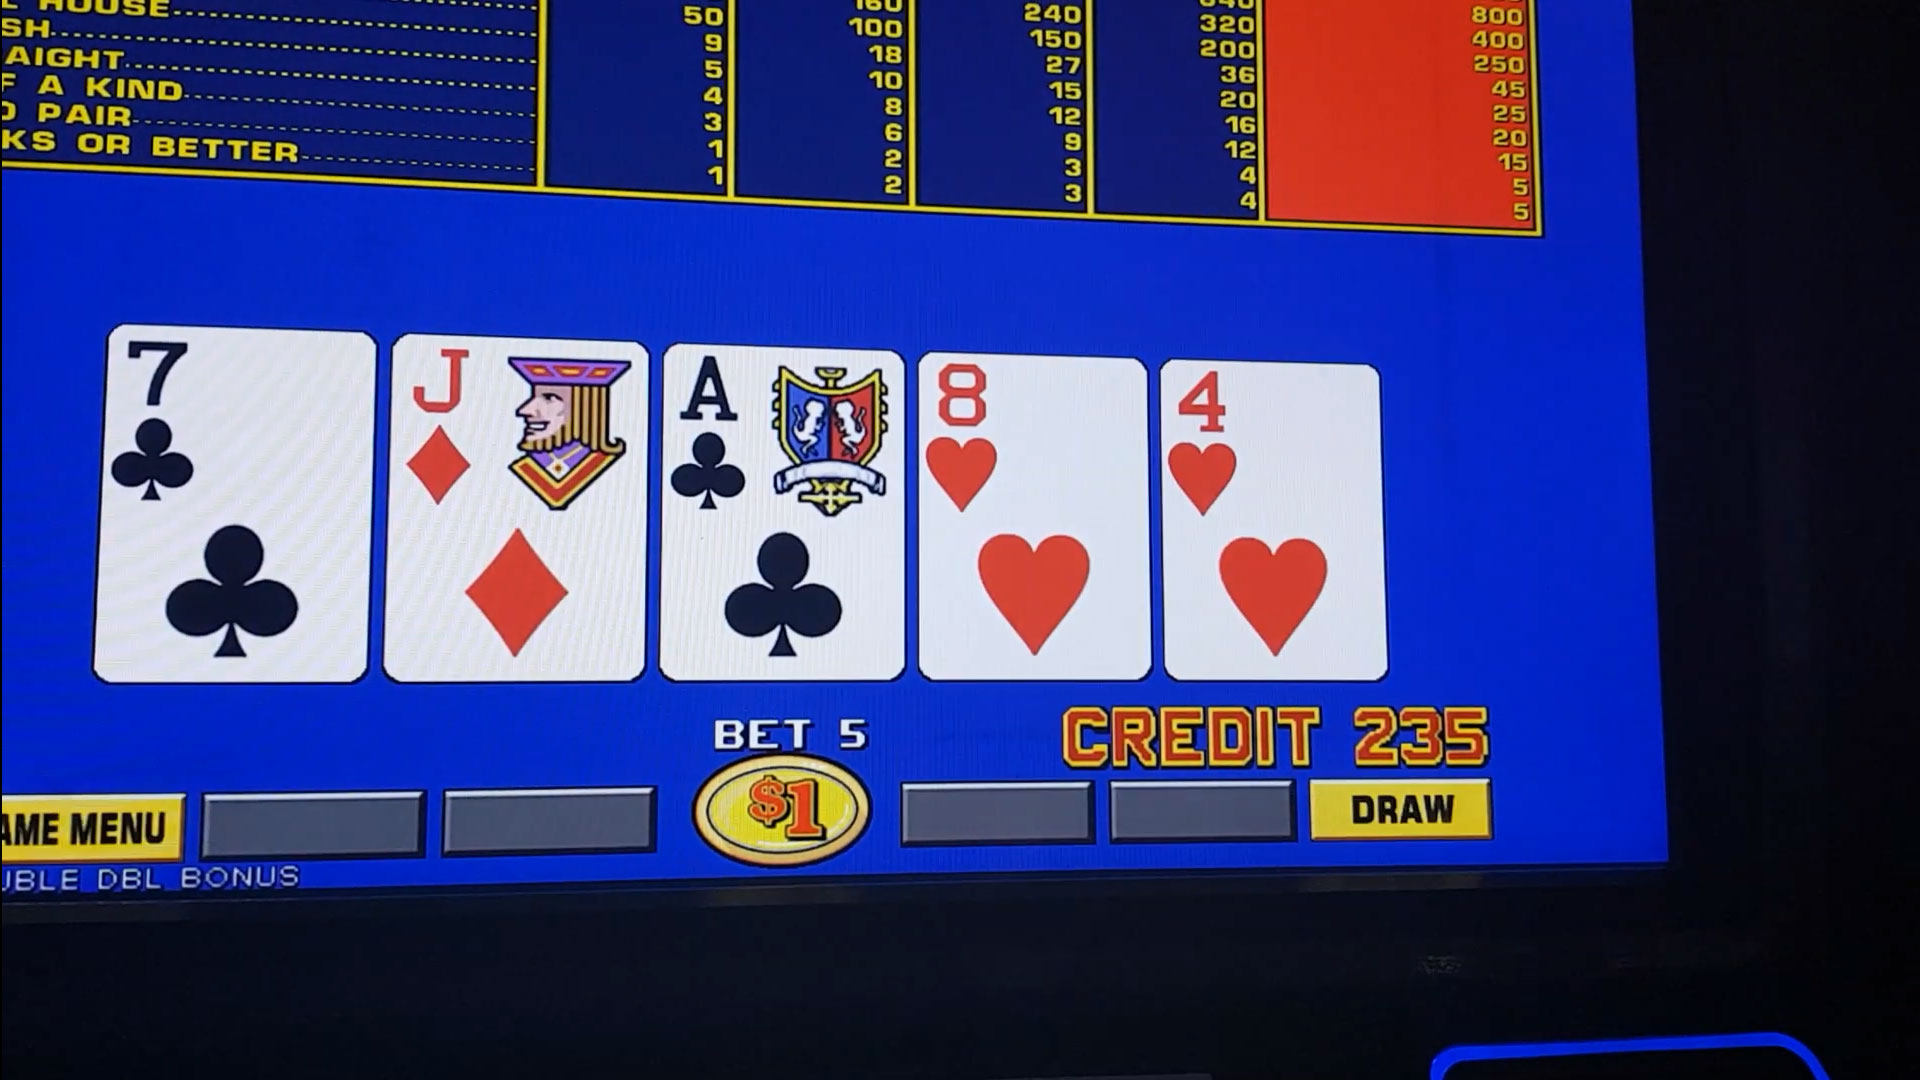C7: (119, 340, 365, 512)
CA: (669, 353, 902, 520)
DJ: (400, 347, 642, 517)
H4: (1168, 371, 1378, 525)
H8: (922, 364, 1143, 521)
